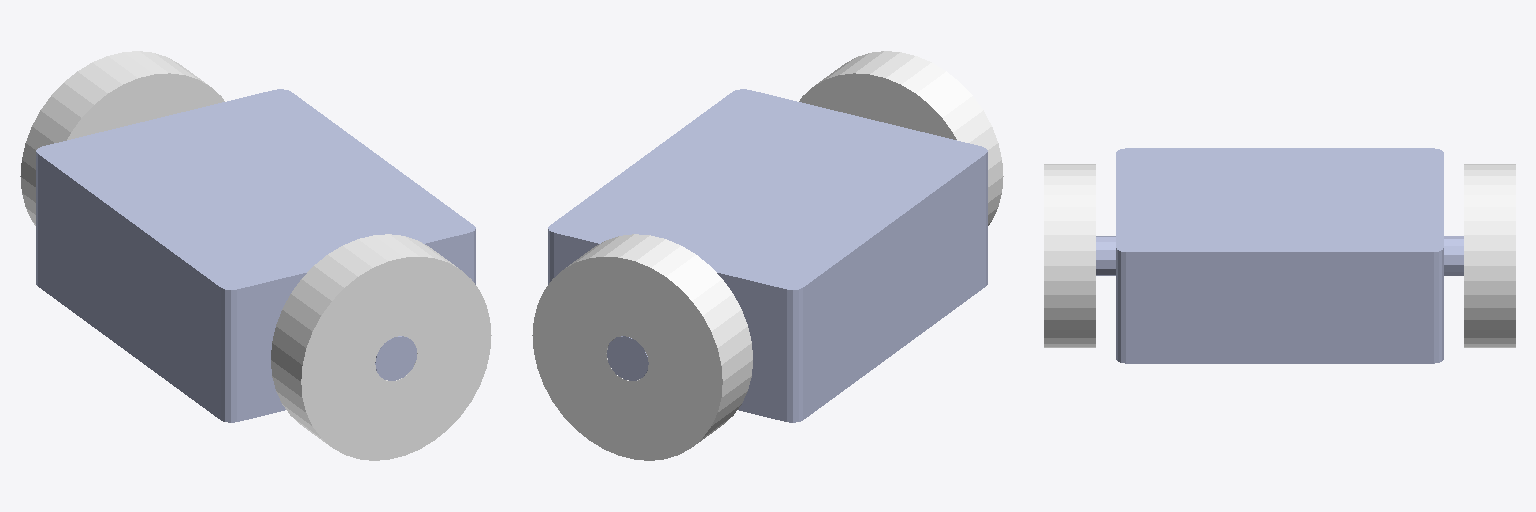
robot.urdf — robot:
<?xml version="1.0" encoding="utf-8"?>
<!-- This URDF was automatically created by SolidWorks to URDF Exporter! Originally created by [author] ([email redacted]) 
     Commit Version: 1.6.0-4-g7f85cfe  Build Version: 1.6.7995.38578
     For more information, please see http://wiki.ros.org/sw_urdf_exporter -->
<robot
  name="robot">
  <link
    name="base_link">
    <inertial>
      <origin
        xyz="1.47451495458029E-17 0 -0.03"
        rpy="0 0 0" />
      <mass
        value="1.17270353755551" />
      <inertia
        ixx="0.00300664842174698"
        ixy="-4.06347892977222E-18"
        ixz="1.70399206185924E-20"
        iyy="0.00172424770321966"
        iyz="2.53324062594359E-21"
        izz="0.00403936913414965" />
    </inertial>
    <visual>
      <origin
        xyz="0 0 0"
        rpy="0 0 0" />
      <geometry>
        <mesh
          filename="package://robot/meshes/base_link.STL" />
      </geometry>
      <material
        name="">
        <color
          rgba="0.792156862745098 0.819607843137255 0.933333333333333 1" />
      </material>
    </visual>
    <collision>
      <origin
        xyz="0 0 0"
        rpy="0 0 0" />
      <geometry>
        <mesh
          filename="package://robot/meshes/base_link.STL" />
      </geometry>
    </collision>
  </link>
  <link
    name="left_wheel_link">
    <inertial>
      <origin
        xyz="0 0.0125 0"
        rpy="0 0 0" />
      <mass
        value="0.151189146454009" />
      <inertia
        ixx="8.81936687648385E-05"
        ixy="1.44447723920675E-37"
        ixz="1.31516848005396E-37"
        iyy="0.000160638468107384"
        iyz="2.75506488473974E-37"
        izz="8.81936687648385E-05" />
    </inertial>
    <visual>
      <origin
        xyz="0 0 0"
        rpy="0 0 0" />
      <geometry>
        <mesh
          filename="package://robot/meshes/left_wheel_link.STL" />
      </geometry>
      <material
        name="">
        <color
          rgba="1 1 1 1" />
      </material>
    </visual>
    <collision>
      <origin
        xyz="0 0 0"
        rpy="0 0 0" />
      <geometry>
        <mesh
          filename="package://robot/meshes/left_wheel_link.STL" />
      </geometry>
    </collision>
  </link>
  <joint
    name="left_wheel_joint"
    type="continuous">
    <origin
      xyz="0 -0.115 -0.03"
      rpy="0 0 0" />
    <parent
      link="base_link" />
    <child
      link="left_wheel_link" />
    <axis
      xyz="0 -1 0" />
  </joint>
  <link
    name="right_wheel_link">
    <inertial>
      <origin
        xyz="2.60208521396521E-18 -0.0125 -8.67361737988404E-19"
        rpy="0 0 0" />
      <mass
        value="0.151189146454009" />
      <inertia
        ixx="8.81936687648385E-05"
        ixy="-1.41172157875717E-21"
        ixz="6.01853107621011E-36"
        iyy="0.000160638468107384"
        iyz="-6.57752008171852E-37"
        izz="8.81936687648384E-05" />
    </inertial>
    <visual>
      <origin
        xyz="0 0 0"
        rpy="0 0 0" />
      <geometry>
        <mesh
          filename="package://robot/meshes/right_wheel_link.STL" />
      </geometry>
      <material
        name="">
        <color
          rgba="1 1 1 1" />
      </material>
    </visual>
    <collision>
      <origin
        xyz="0 0 0"
        rpy="0 0 0" />
      <geometry>
        <mesh
          filename="package://robot/meshes/right_wheel_link.STL" />
      </geometry>
    </collision>
  </link>
  <joint
    name="right_wheel_joint"
    type="continuous">
    <origin
      xyz="0 0.115 -0.03"
      rpy="0 0 0" />
    <parent
      link="base_link" />
    <child
      link="right_wheel_link" />
    <axis
      xyz="0 1 0" />
  </joint>
</robot>

--- Render facts (derived) ---
Views: 3 orthographic renders of the robot side by side, from view 1: azimuth 30°, elevation 25°; view 2: azimuth 150°, elevation 25°; view 3: azimuth 270°, elevation 25°.
Model robot with 3 links and 2 joints (2 continuous), rooted at base_link, posed all joints at 0.
Links seen in each view (by area): view 1: base_link, left_wheel_link, right_wheel_link; view 2: base_link, right_wheel_link, left_wheel_link; view 3: base_link, left_wheel_link, right_wheel_link.
Link boxes in pixels (left/top/right/bottom): base_link: left=36, top=89, right=475, bottom=422; left_wheel_link: left=271, top=234, right=491, bottom=460; right_wheel_link: left=20, top=51, right=224, bottom=225; base_link: left=548, top=89, right=987, bottom=422; right_wheel_link: left=532, top=234, right=752, bottom=460; left_wheel_link: left=799, top=51, right=1003, bottom=225; base_link: left=1096, top=148, right=1463, bottom=363; left_wheel_link: left=1044, top=164, right=1095, bottom=347; right_wheel_link: left=1464, top=164, right=1515, bottom=347.
Size in the robot's own frame: 0.12 by 0.23 by 0.0897 metres.
Meshes: 3 distinct files referenced, 3 mesh visuals loaded (3 binary STL).